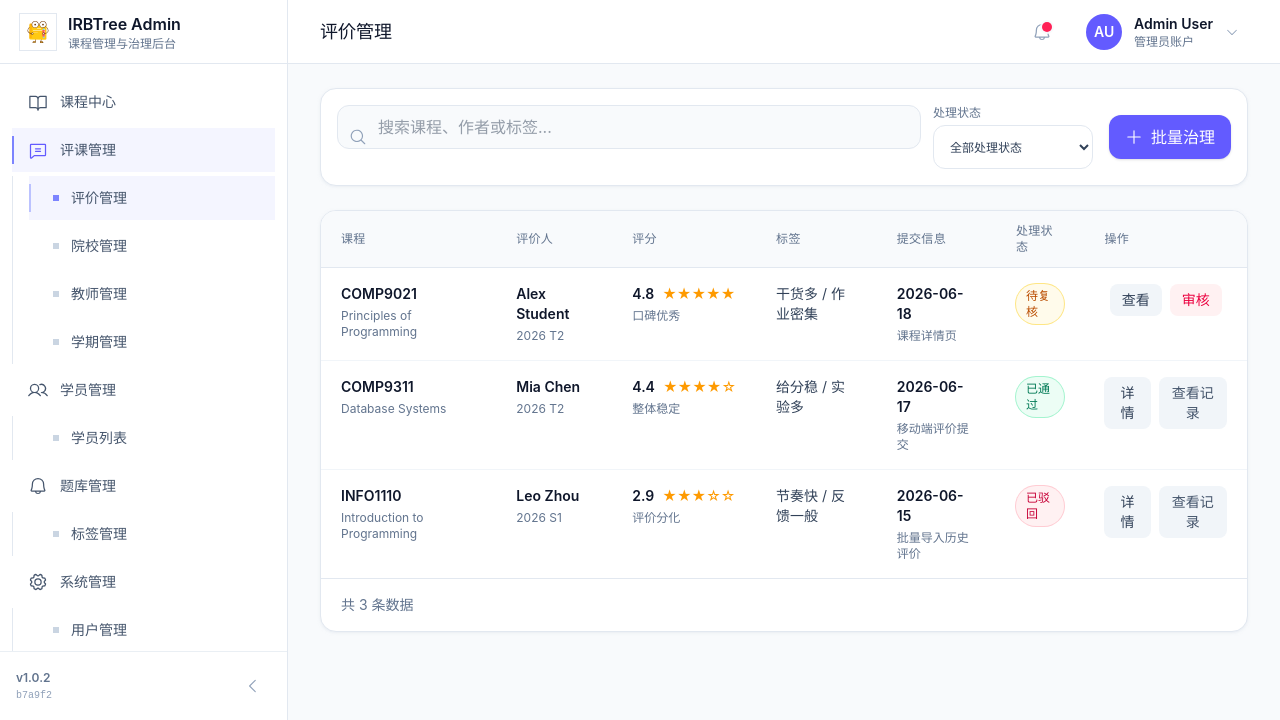
Scenario: Admin page behaviors › shows the four review rating dimensions in the detail drawer
Click the button "查看": click(1136, 300) x1=1110 y1=284 x2=1162 y2=316
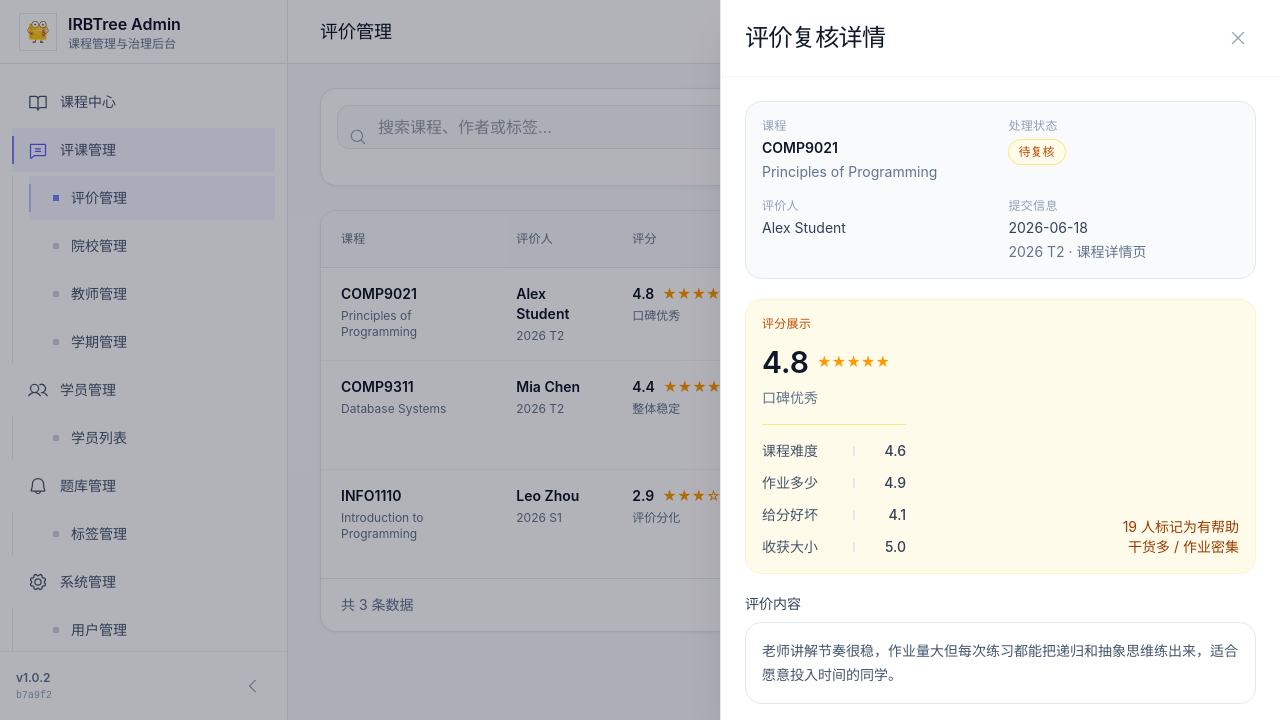
Expected: the text "课程难度" is shown, x1=762 y1=442 x2=818 y2=459
Expected: the text "作业多少" is shown, x1=762 y1=474 x2=818 y2=491
Expected: the text "给分好坏" is shown, x1=762 y1=506 x2=818 y2=523
